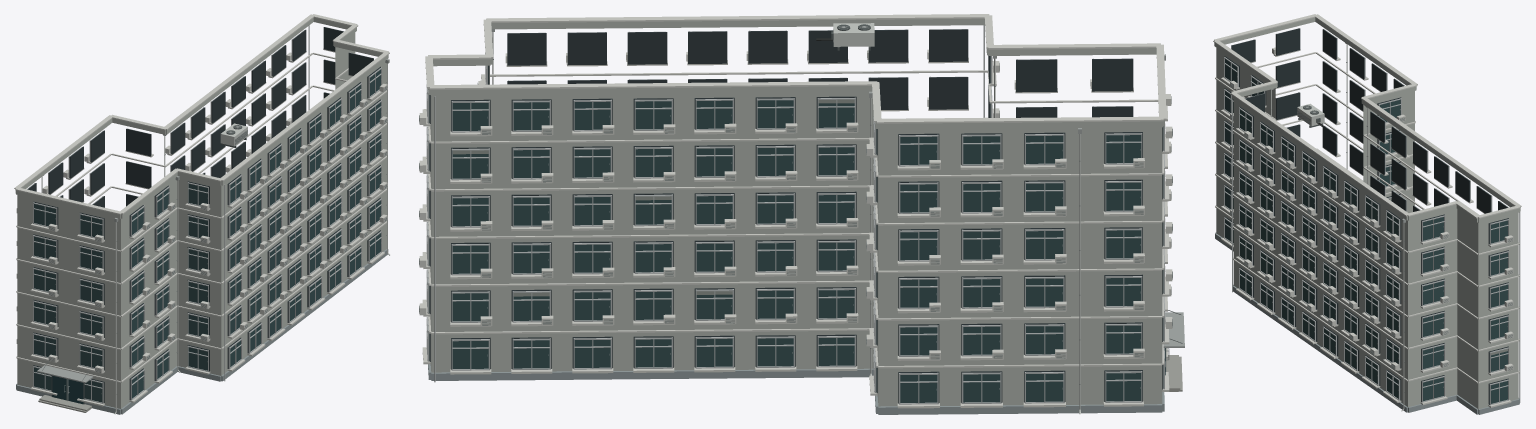
File: osm_way_225255194.glb
3 views of the same model, side by side, from view 1: azimuth 30°, elevation 25°; view 2: azimuth 150°, elevation 25°; view 3: azimuth 270°, elevation 25° (orthographic). The views are drawn at different scales.
Visible parts, largest first — view 1: Windows and facade details | 43, Architecture | 43, Roof services | 43, EXTERIOR::osm_way_225255194::rainwater and roof service deta, EXTERIOR::osm_way_225255194::inferred entry doors canopy and; view 2: Architecture | 43, Windows and facade details | 43, Roof services | 43, EXTERIOR::osm_way_225255194::rainwater and roof service deta, EXTERIOR::osm_way_225255194::inferred entry doors canopy and, EXTERIOR::osm_way_225255194::native pane seals and hardware; view 3: Windows and facade details | 43, Architecture | 43, Roof services | 43, EXTERIOR::osm_way_225255194::rainwater and roof service deta.
Boxes of the visible parts, left/top/right/bottom form: Windows and facade details | 43: left=16, top=25, right=387, bottom=406; Architecture | 43: left=15, top=17, right=388, bottom=414; Roof services | 43: left=14, top=14, right=389, bottom=214; EXTERIOR::osm_way_225255194::rainwater and roof service deta: left=41, top=59, right=390, bottom=414; EXTERIOR::osm_way_225255194::inferred entry doors canopy and: left=37, top=361, right=93, bottom=412; Architecture | 43: left=428, top=18, right=1164, bottom=414; Windows and facade details | 43: left=419, top=25, right=1172, bottom=408; Roof services | 43: left=425, top=14, right=1166, bottom=123; EXTERIOR::osm_way_225255194::rainwater and roof service deta: left=491, top=23, right=1165, bottom=414; EXTERIOR::osm_way_225255194::inferred entry doors canopy and: left=1163, top=310, right=1184, bottom=391; EXTERIOR::osm_way_225255194::native pane seals and hardware: left=453, top=99, right=1140, bottom=390; Windows and facade details | 43: left=1221, top=28, right=1520, bottom=407; Architecture | 43: left=1214, top=17, right=1520, bottom=414; Roof services | 43: left=1213, top=14, right=1521, bottom=218; EXTERIOR::osm_way_225255194::rainwater and roof service deta: left=1270, top=43, right=1405, bottom=411.
Size of the model in its own units: 43.6 by 20.58 by 27.87.
